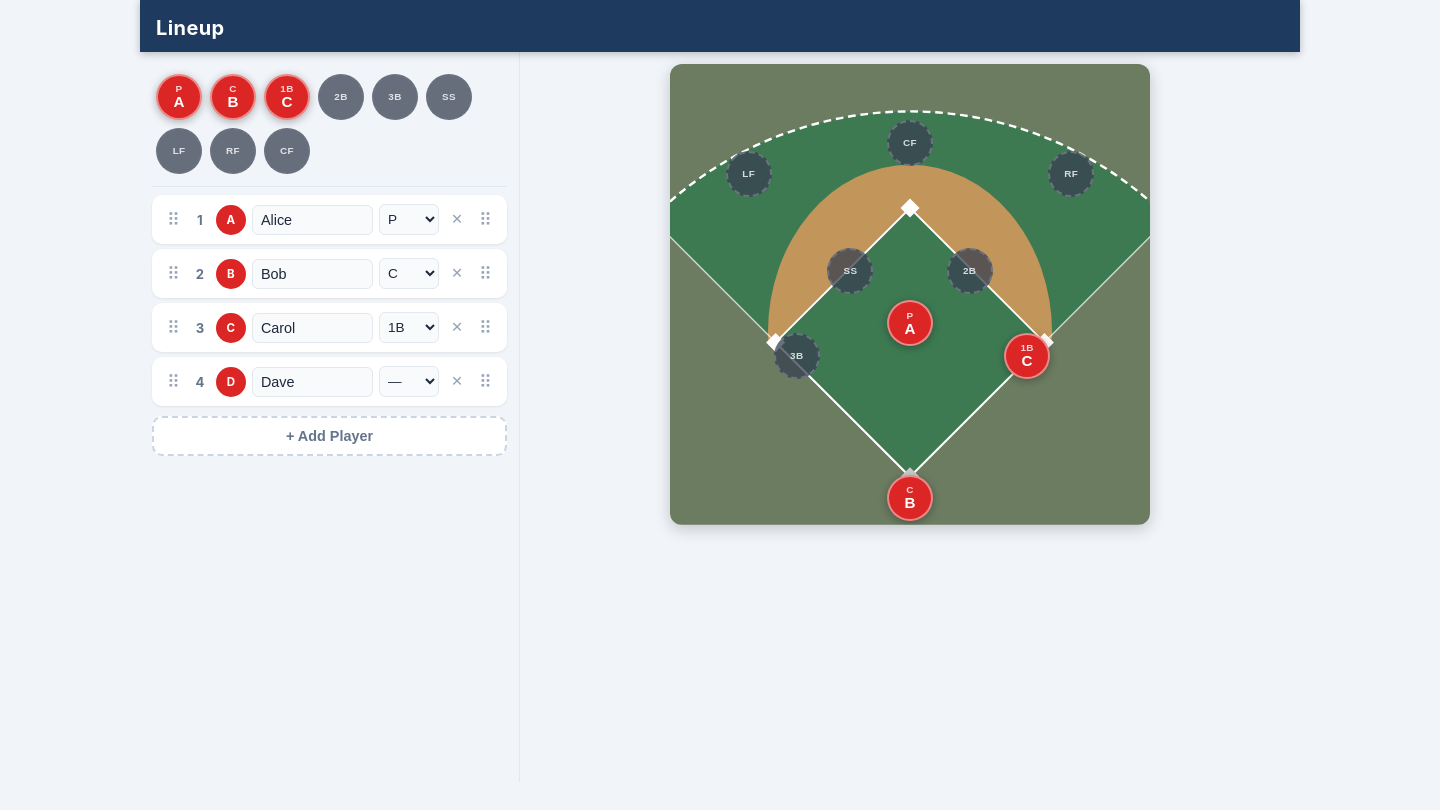
Test: remove confirm flow › shows Remove? confirmation after clicking ✕
Click the 1st button titled "Remove" at (457, 220), box [445, 208, 469, 231]
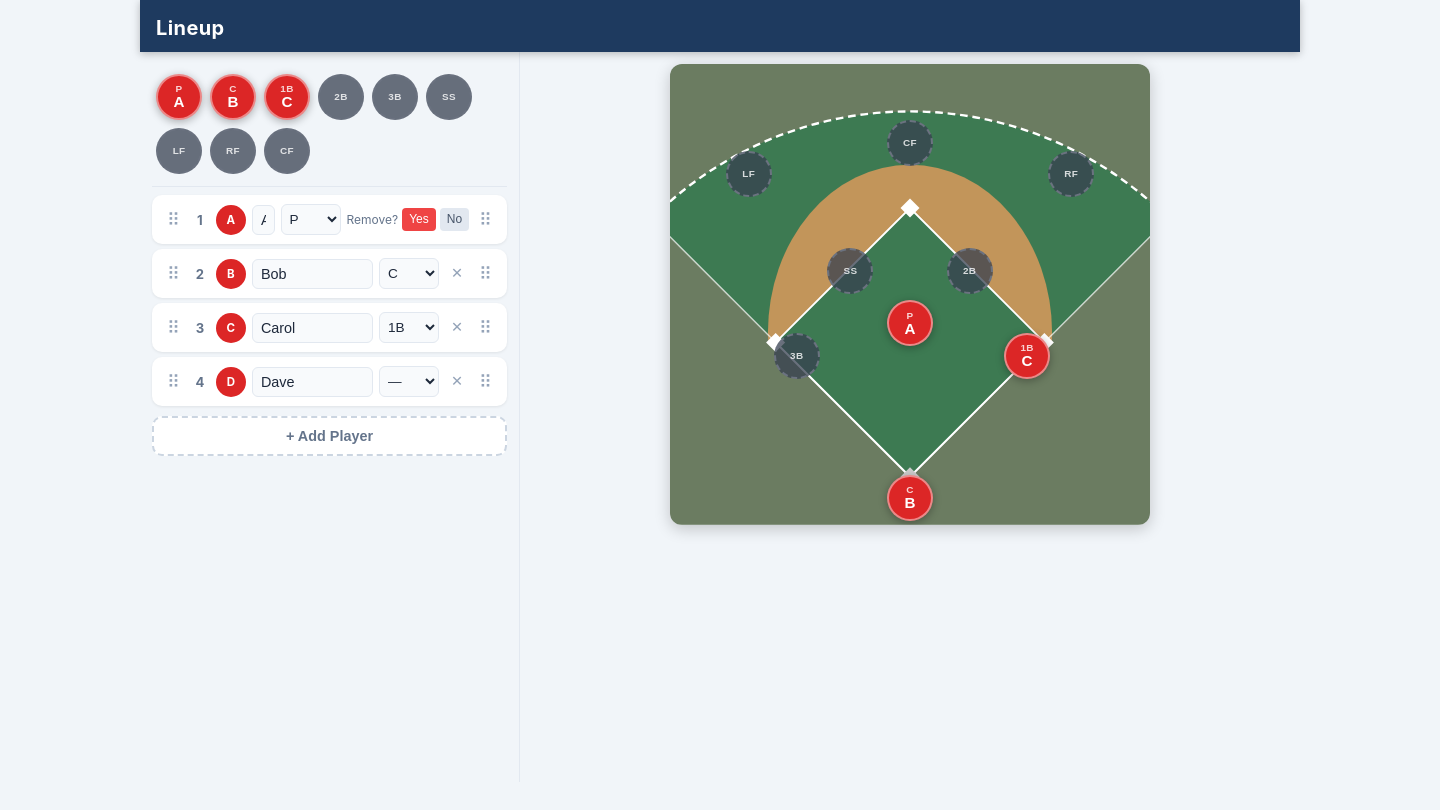
Result: the text "Remove?" is shown at [346, 212, 398, 227]
Result: the button "Yes" is shown at [402, 208, 436, 231]
Result: the button "No" is shown at [440, 208, 469, 231]
